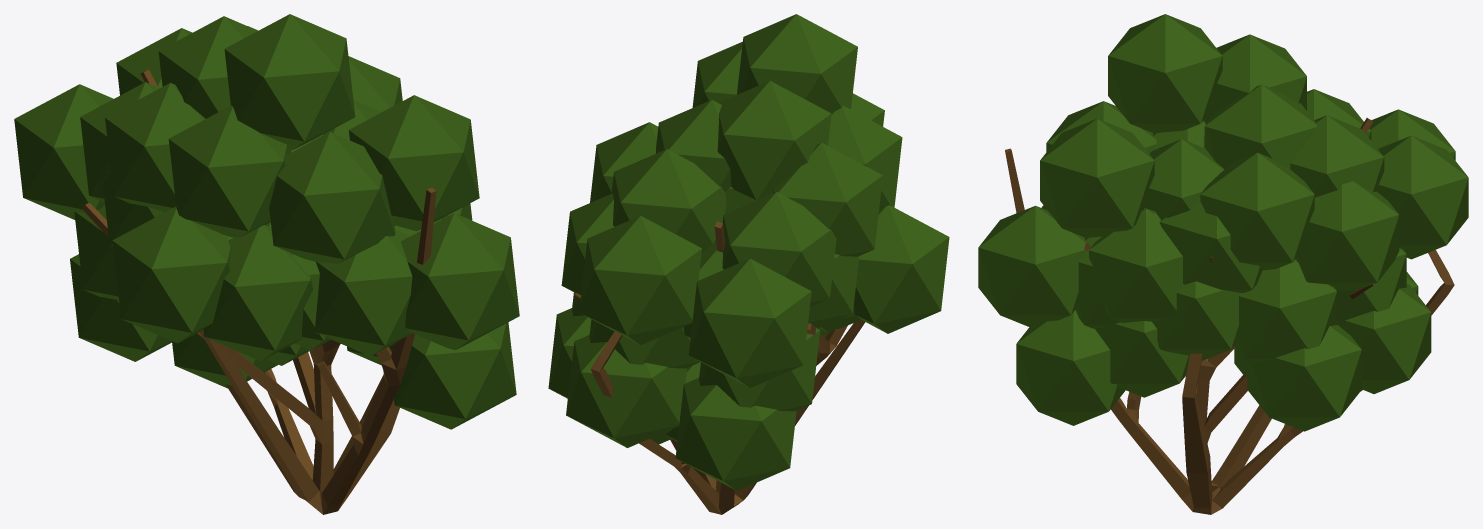
Rendered from KRZAK.fbx.
The picture shows the model from 3 angles, left to right: view 1: azimuth 30°, elevation 25°; view 2: azimuth 150°, elevation 25°; view 3: azimuth 270°, elevation 25°; orthographic projection. The views are drawn at different scales.
Visible parts, largest first — view 1: Icosphere.055, Cube; view 2: Icosphere.055, Cube; view 3: Icosphere.055, Cube.
Part boxes in pixels (x1,y1,x2,y2): Icosphere.055: (14,14,519,429); Cube: (82,69,436,514); Icosphere.055: (548,14,949,490); Cube: (573,221,865,514); Icosphere.055: (978,14,1468,431); Cube: (1005,118,1454,514).
Bounding box in the file's own units: 993 × 1471 × 1386.
